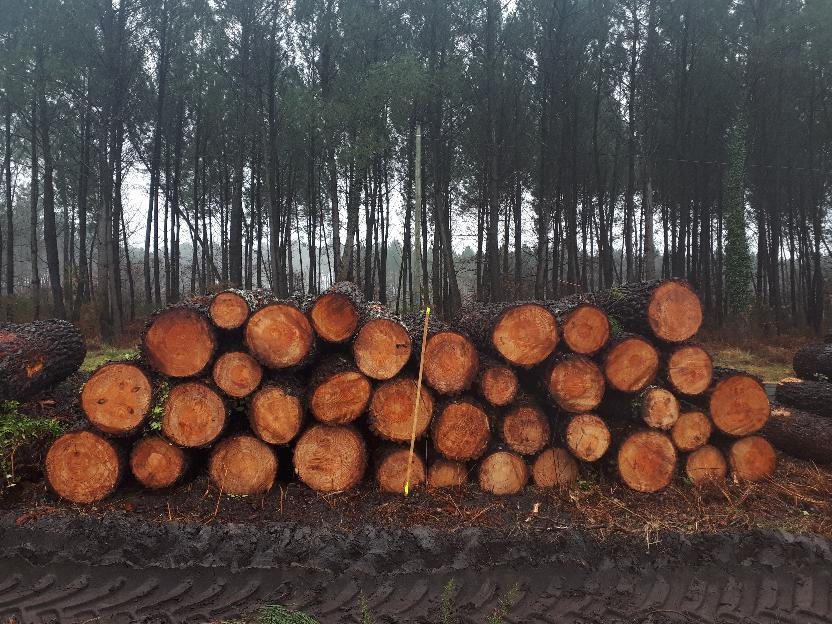etalon: (404, 308, 430, 497)
object: (78, 356, 154, 434), (45, 428, 123, 504), (140, 302, 214, 380), (292, 422, 372, 494), (240, 303, 315, 371), (639, 276, 707, 346), (488, 301, 559, 367), (208, 436, 280, 496), (706, 371, 772, 435), (159, 383, 225, 447), (307, 366, 377, 424), (370, 377, 432, 441), (431, 398, 491, 460), (247, 385, 306, 447), (618, 429, 678, 489), (354, 319, 416, 374), (420, 331, 474, 393), (208, 346, 270, 399), (370, 448, 432, 499), (130, 436, 184, 492), (548, 359, 604, 411), (526, 444, 582, 492), (664, 345, 714, 397), (500, 402, 550, 452), (608, 336, 656, 388), (312, 286, 358, 340), (730, 432, 778, 483), (561, 414, 612, 458), (203, 288, 251, 334), (563, 305, 611, 351), (478, 450, 528, 494), (680, 443, 724, 485), (640, 383, 676, 427), (479, 363, 515, 405), (429, 456, 473, 488), (676, 408, 706, 446)
pile: (40, 267, 774, 503)
